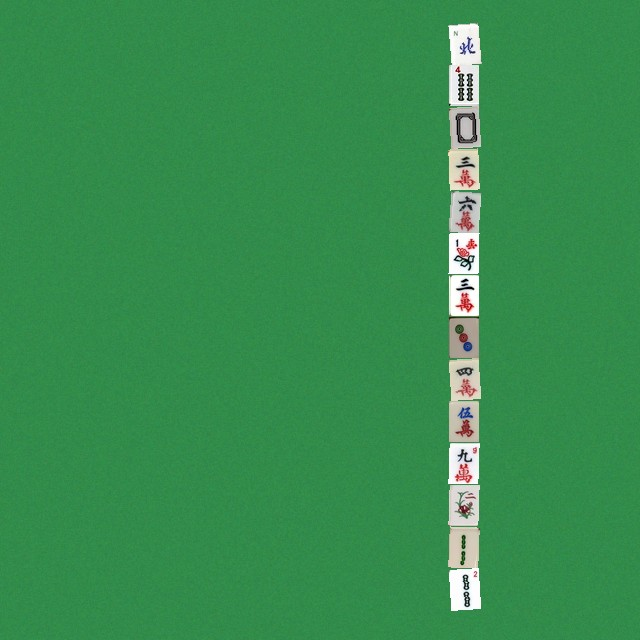tile: (448, 22, 478, 63), (448, 64, 478, 105), (448, 106, 478, 147), (448, 148, 478, 189), (448, 190, 478, 231), (448, 232, 478, 273), (448, 274, 478, 315), (448, 316, 478, 357), (448, 358, 478, 399), (448, 400, 478, 441), (448, 442, 478, 483), (448, 484, 478, 525), (448, 526, 478, 567), (448, 568, 478, 609)
